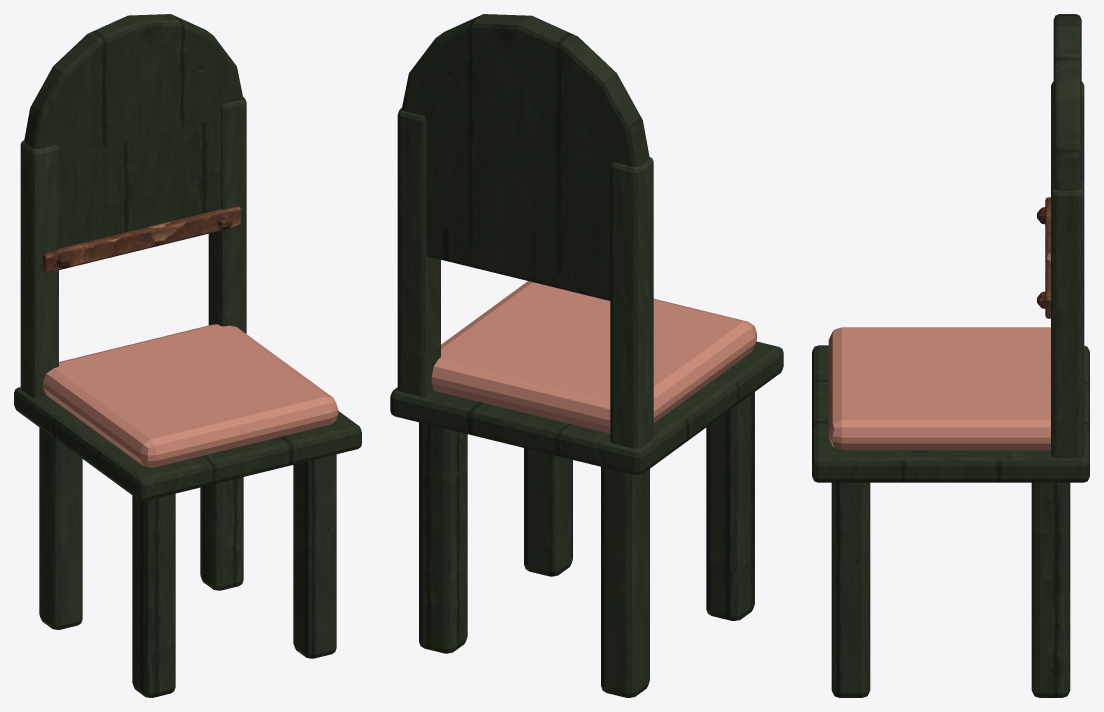
Rendered from hearth_chair.glb.
The picture shows the model from 3 angles, left to right: view 1: azimuth 30°, elevation 25°; view 2: azimuth 150°, elevation 25°; view 3: azimuth 270°, elevation 25°; orthographic projection. The views are drawn at different scales.
Visible parts, largest first — view 1: model; view 2: model; view 3: model.
Part boxes in pixels (x1,y1,x2,y2): model: (14, 14, 361, 697); model: (390, 14, 783, 697); model: (812, 14, 1089, 697).
Size of the model in its own units: 0.5 by 1.24 by 0.5.
Materials: 6 (5 with a texture image).
